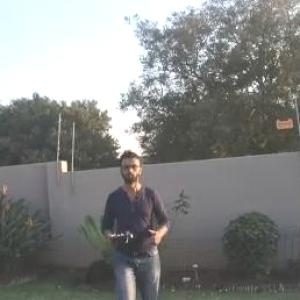follow: (99, 149, 175, 299)
